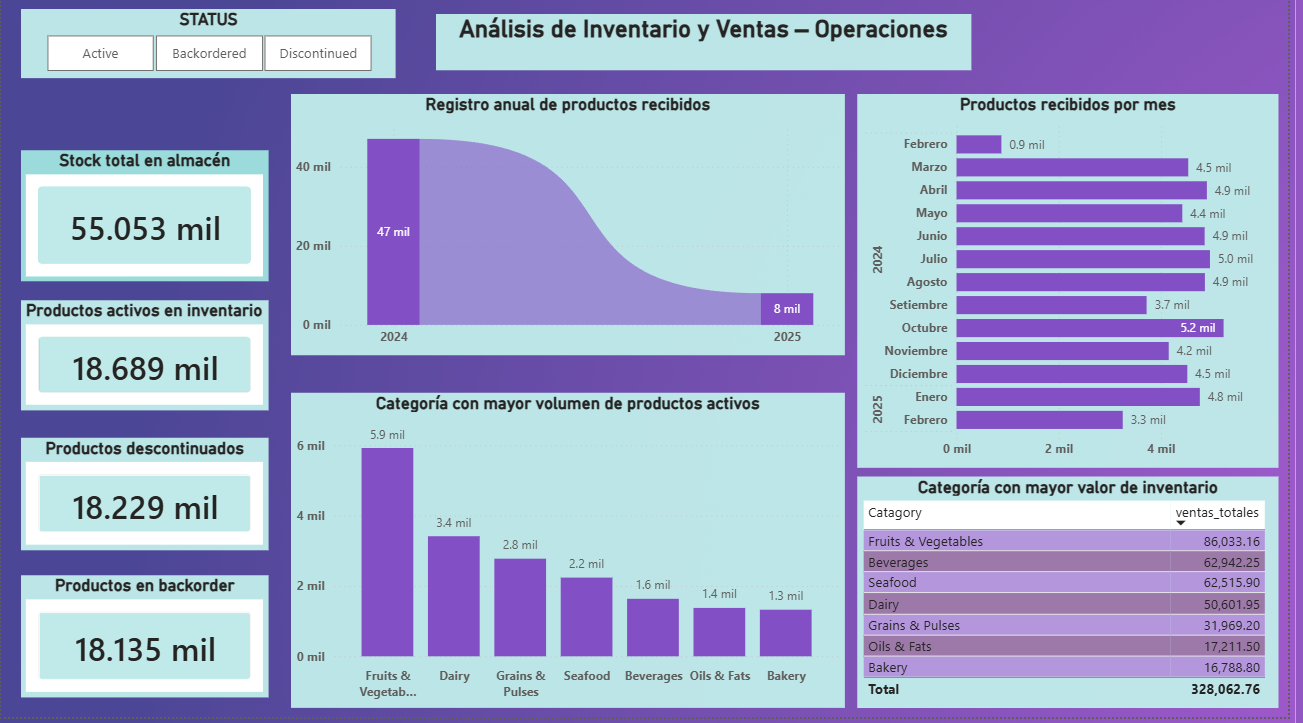

Layout of this report page (visuals, bound fields, positions):
{"tool":"powerbi","page":{"name":"Página 1","canvas":[1280,720],"ordinal":0},"visuals":[{"type":"cardVisual","title":"Stock total en almacén","fields":{"Data":["Grocery_Inventory.cantidad_productos"]},"box":[19.9,155.5,246.3,130.6],"z":0},{"type":"cardVisual","title":"Productos activos en inventario","fields":{"Data":["Grocery_Inventory.producto_activo"]},"box":[19.9,304.8,246.3,109.5],"z":1000},{"type":"cardVisual","title":"Productos descontinuados","fields":{"Data":["Grocery_Inventory.producto_descontinuado"]},"box":[19.9,441.6,246.3,112],"z":2000},{"type":"cardVisual","title":"Productos en backorder","fields":{"Data":["Grocery_Inventory.producto_pendiente"]},"box":[19.9,578.4,246.3,121.9],"z":3000},{"type":"ribbonChart","title":"Registro anual de productos recibidos","fields":{"Category":["Grocery_Inventory.Date_Received.Variación.Jerarquía de fechas.Año"],"Y":["Grocery_Inventory.cantidad_productos"]},"box":[288.6,99.5,551.1,260],"z":4000},{"type":"clusteredColumnChart","title":"Categoría con mayor volumen de productos activos","fields":{"Category":["Grocery_Inventory.Catagory"],"Y":["Grocery_Inventory.producto_activo"]},"box":[288.6,396.8,551.1,313.5],"z":5000},{"type":"clusteredBarChart","title":"Productos recibidos por mes","fields":{"Category":["Grocery_Inventory.Date_Received.Variación.Jerarquía de fechas.Año","Grocery_Inventory.Date_Received.Variación.Jerarquía de fechas.Mes"],"Y":["Grocery_Inventory.cantidad_productos"]},"box":[852.1,99.5,427.9,371.9],"z":6000},{"type":"tableEx","title":"Categoría con mayor valor de inventario","fields":{"Values":["Grocery_Inventory.Catagory","Grocery_Inventory.ventas_totales"]},"box":[852.1,480.2,427.9,240.1],"z":7000},{"type":"textbox","title":"Análisis de Inventario y Ventas – Operaciones","box":[432.9,19.9,532.4,56],"z":7001},{"type":"slicer","title":"STATUS","fields":{"Values":["Grocery_Inventory.Status"]},"box":[19.9,14.9,373.2,68.4],"z":7002}]}

Visuals, with their boxes in screenshot pixels (x1, y1, x2, y2), scaled from the page's 1280x720 canvas onto the 1303x723 screenshot:
"Stock total en almacén" cardVisual: (20,156,271,287)
"Productos activos en inventario" cardVisual: (20,306,271,416)
"Productos descontinuados" cardVisual: (20,443,271,556)
"Productos en backorder" cardVisual: (20,581,271,703)
"Registro anual de productos recibidos" ribbonChart: (294,100,855,361)
"Categoría con mayor volumen de productos activos" clusteredColumnChart: (294,398,855,713)
"Productos recibidos por mes" clusteredBarChart: (867,100,1302,473)
"Categoría con mayor valor de inventario" tableEx: (867,482,1302,722)
"Análisis de Inventario y Ventas – Operaciones" textbox: (441,20,983,76)
"STATUS" slicer: (20,15,400,84)
